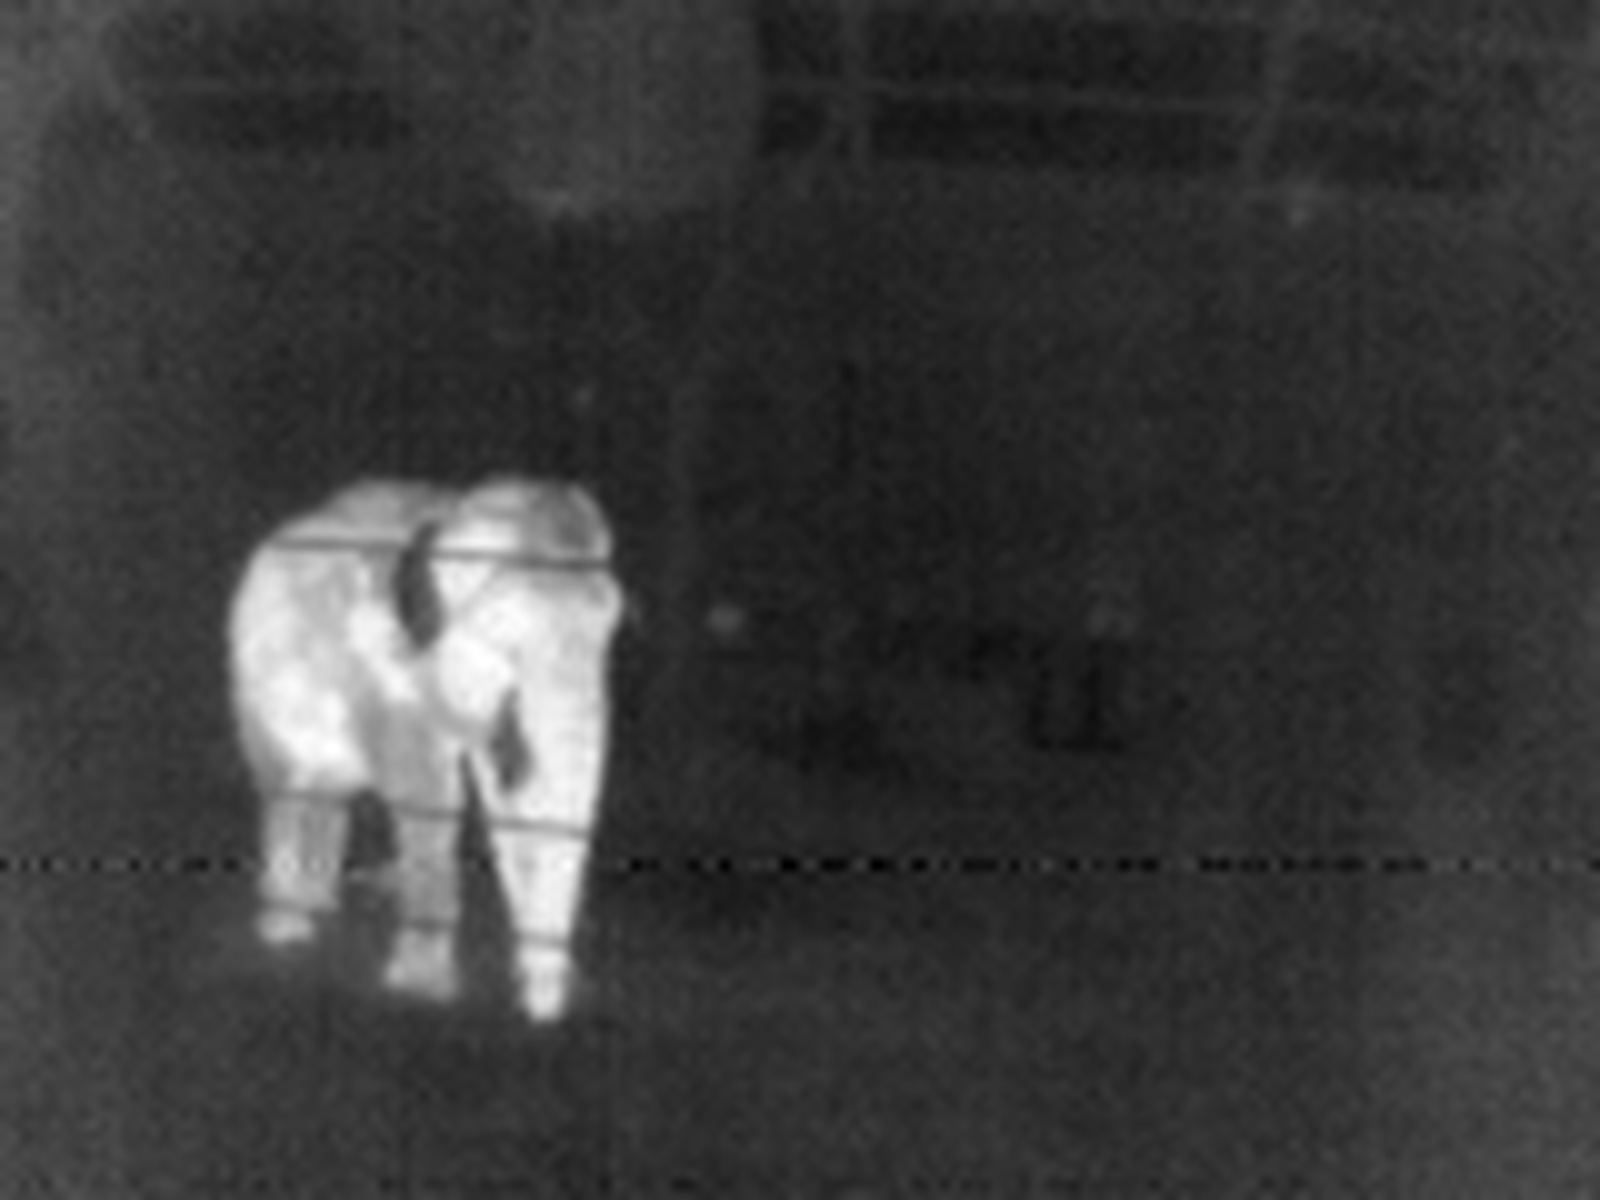elephant: (183, 405, 682, 1045)
